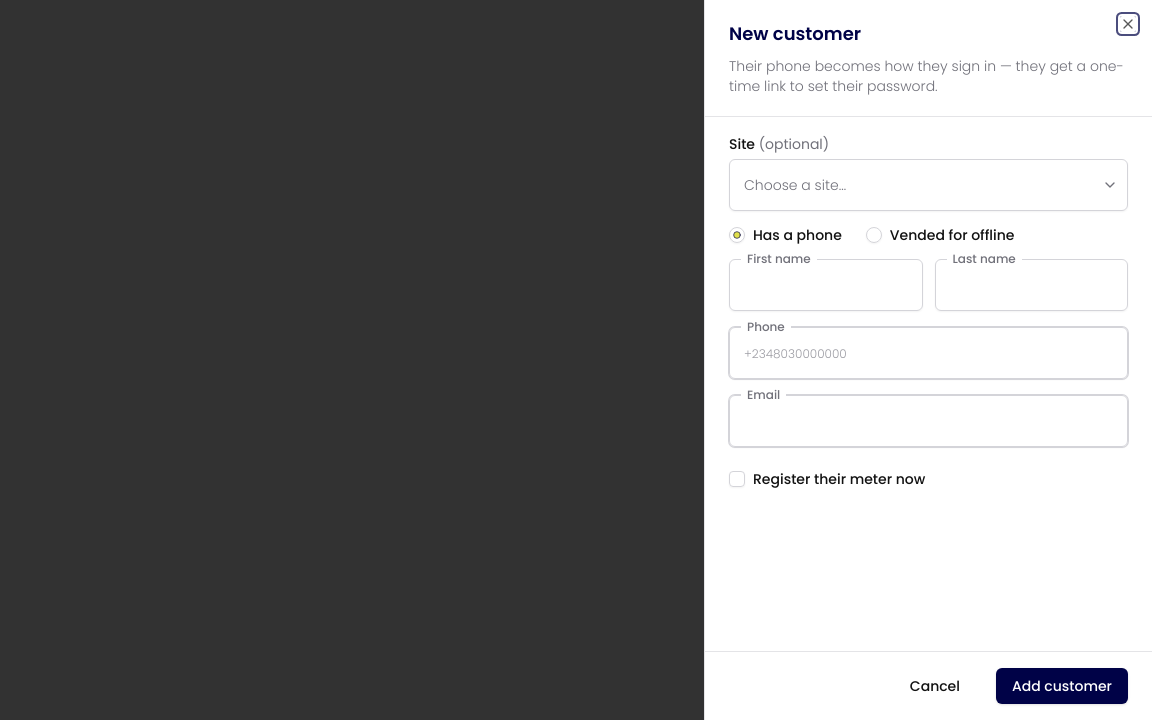
Test: NewCustomerSheet › lands a server field error under its field
Type "Ada" into the field labelled "First name" at (826, 285), box [729,259,922,311]
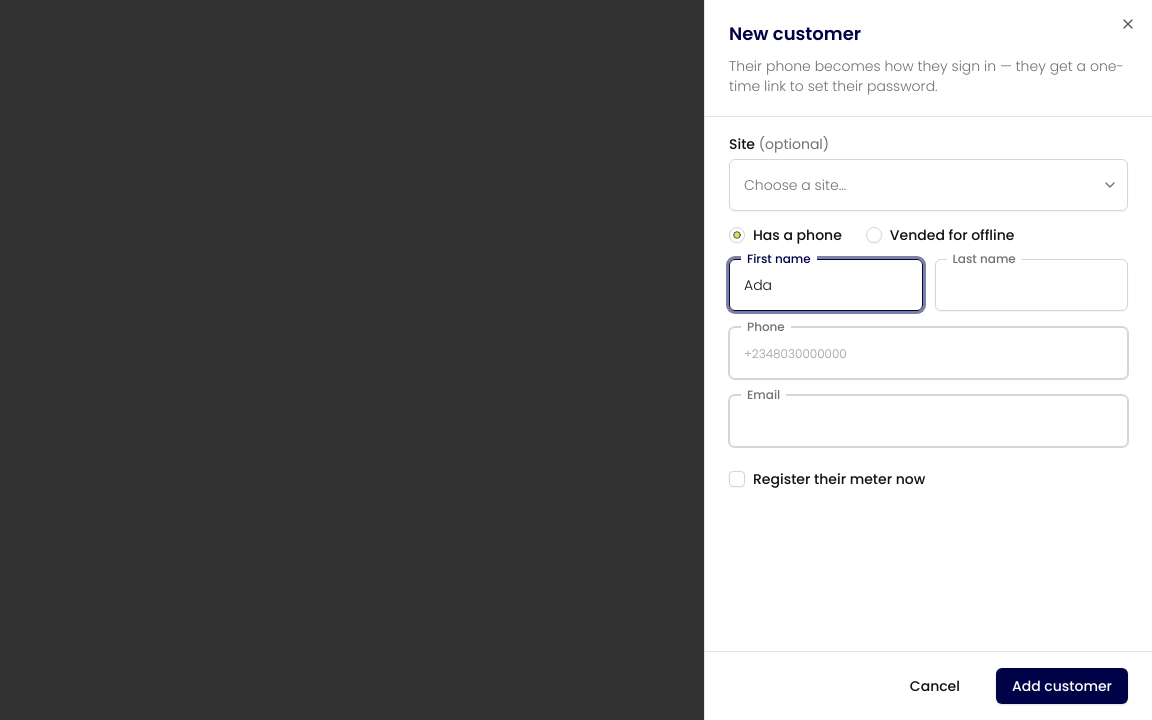
Type "Adeyemi" into the field labelled "Last name" at (1031, 285), box [934,259,1128,311]
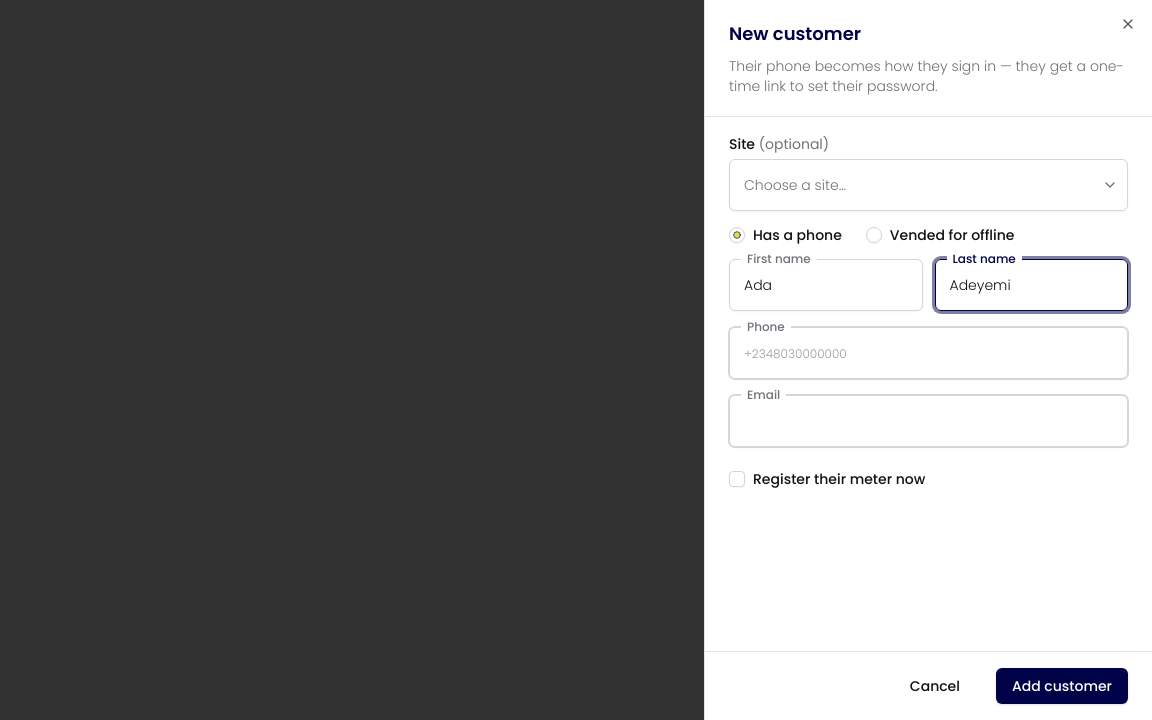
Type "0803" into the field labelled "Phone" at (928, 353), box [729,327,1128,379]
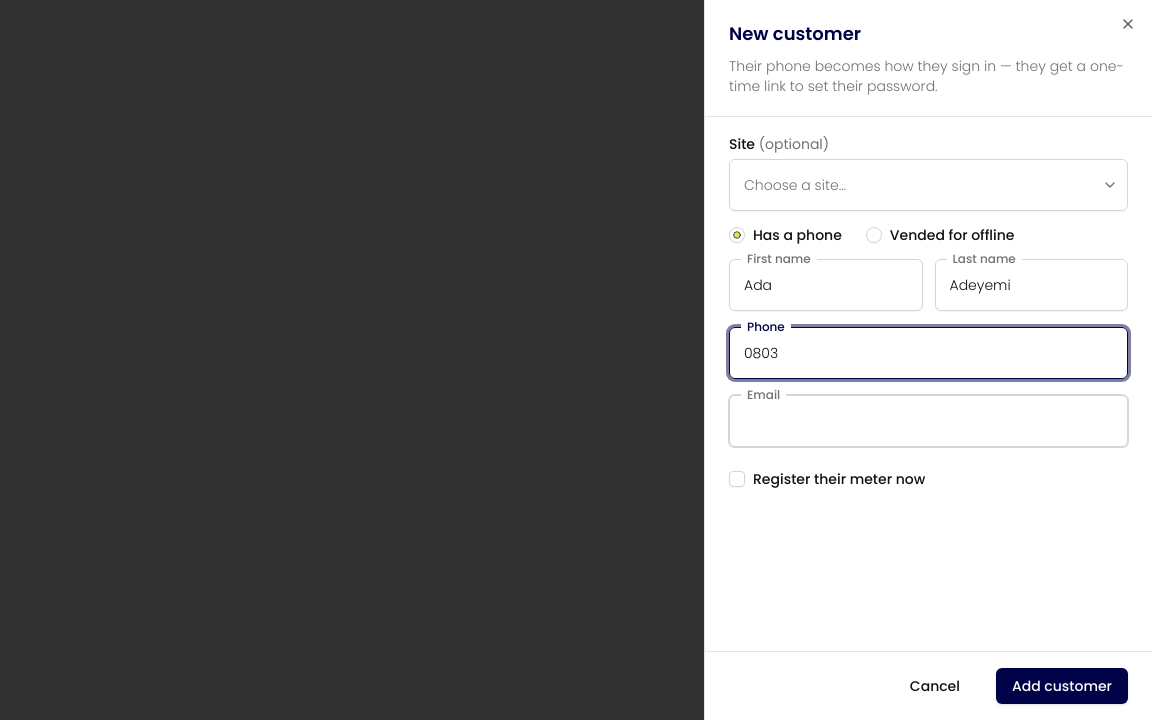
Type "ada@example.test" into the field labelled "Email" at (928, 421), box [729,395,1128,447]
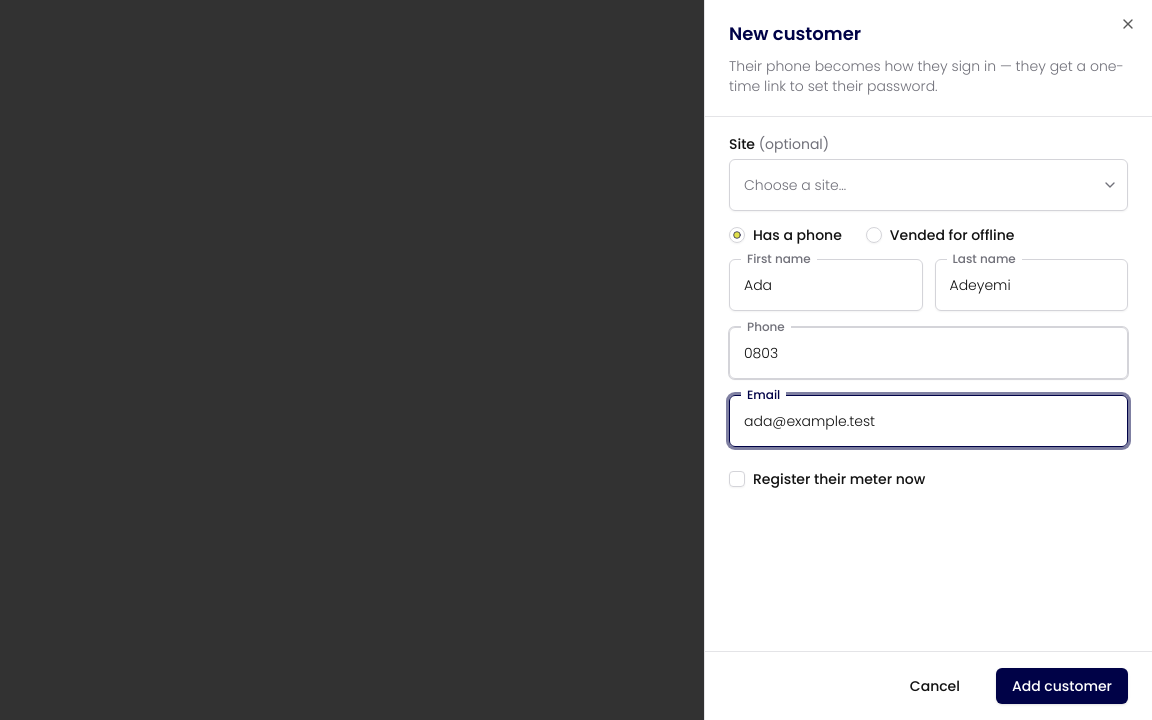
Click the button "Add customer" at (1062, 686), box [996,668,1128,704]
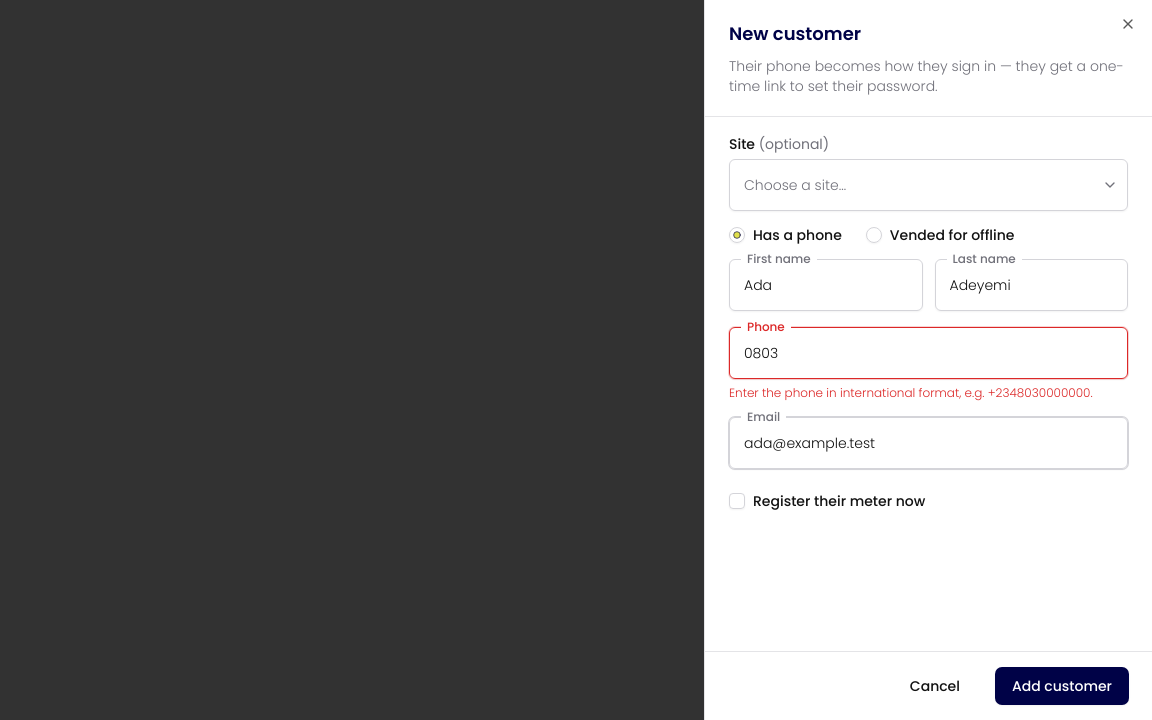
Check: the text "Enter the phone in international format, e.g. +2348030000000." is shown, box [729,385,1128,401]
